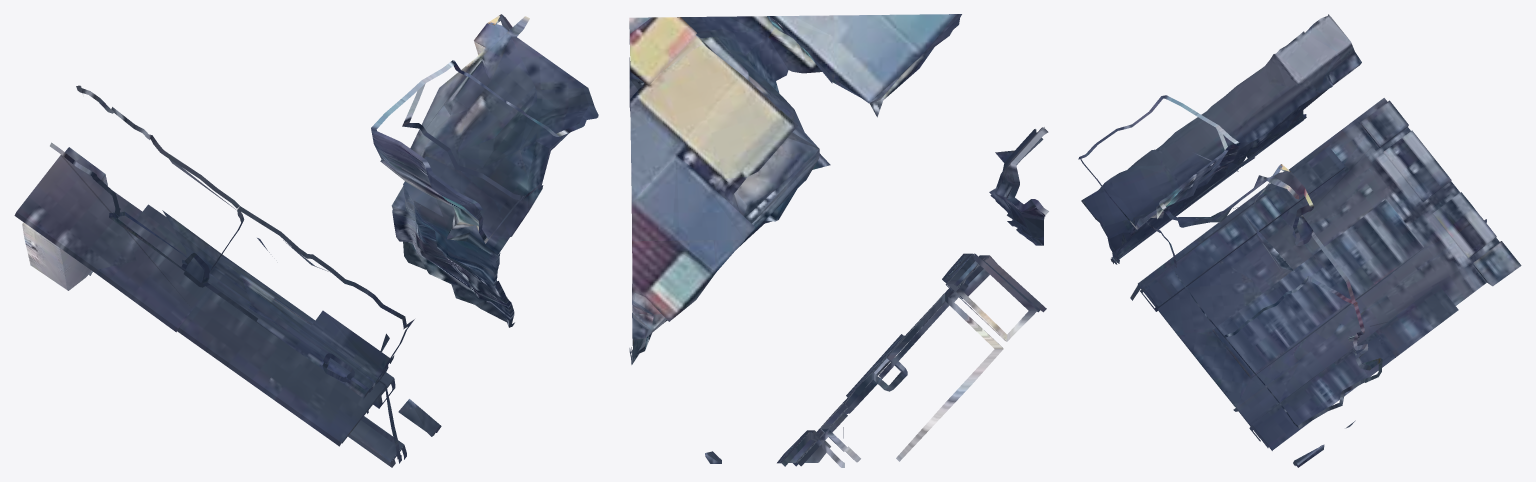
3 views of the same model, side by side, from view 1: azimuth 30°, elevation 25°; view 2: azimuth 150°, elevation 25°; view 3: azimuth 270°, elevation 25° (orthographic). The views are drawn at different scales.
Bounding box in the file's own units: 48.27 × 41.27 × 50.63.
Materials: 1 (1 with a texture image).
